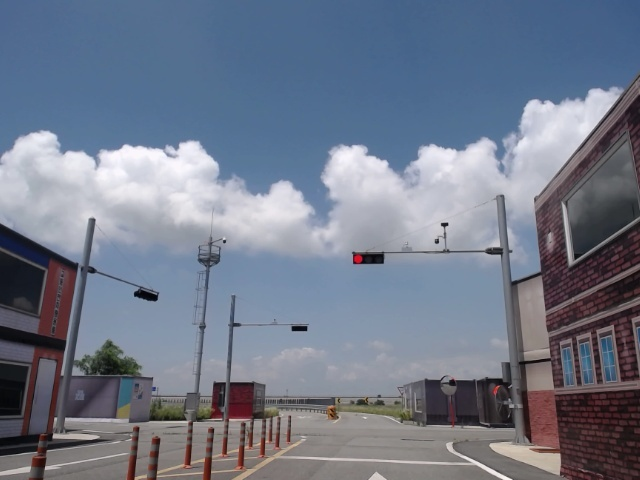red_3: (352, 252, 385, 265)
